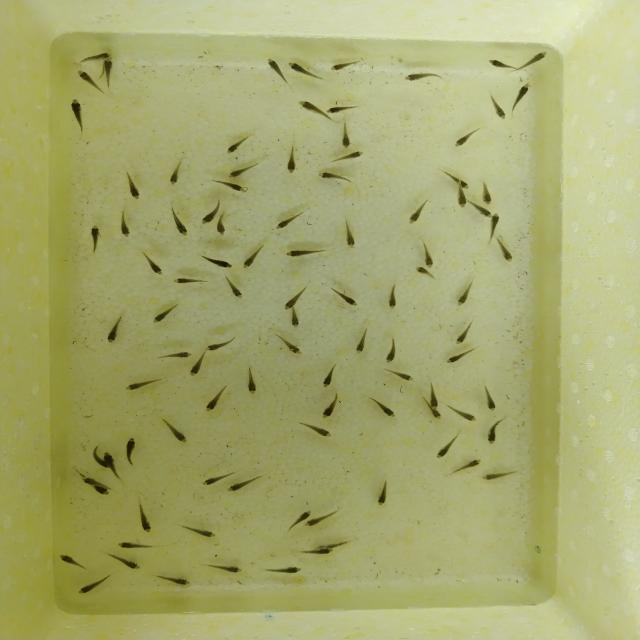fingerling: (516, 50, 556, 72), (68, 94, 88, 136), (160, 416, 188, 444), (368, 396, 398, 421), (192, 470, 230, 489), (276, 333, 304, 358), (436, 432, 461, 460), (72, 580, 110, 598), (243, 242, 269, 268), (406, 197, 430, 225), (512, 80, 534, 110), (280, 290, 306, 315), (105, 554, 141, 572), (262, 54, 286, 80), (302, 421, 333, 441), (334, 290, 362, 312), (230, 476, 264, 494), (322, 392, 344, 419), (449, 458, 482, 476), (202, 392, 226, 416), (56, 553, 88, 571), (167, 271, 203, 287), (154, 303, 180, 325), (301, 100, 329, 120), (180, 526, 220, 540), (275, 212, 303, 232), (399, 70, 442, 83), (451, 128, 476, 150), (445, 169, 470, 191), (122, 170, 140, 200), (171, 207, 190, 235), (105, 318, 124, 346), (142, 251, 164, 275), (332, 150, 365, 166), (87, 227, 103, 260), (105, 451, 123, 480), (496, 238, 516, 264), (226, 136, 252, 156), (288, 60, 316, 78), (218, 178, 246, 196), (489, 95, 507, 122), (372, 479, 390, 506), (74, 68, 96, 90), (196, 208, 216, 232), (140, 504, 156, 534), (230, 163, 258, 180), (481, 386, 498, 414), (120, 380, 154, 394), (454, 284, 472, 310), (468, 200, 494, 218), (224, 278, 245, 300), (156, 574, 194, 586), (322, 363, 340, 388), (486, 416, 502, 444), (117, 211, 133, 239), (317, 172, 349, 186), (167, 162, 184, 188), (455, 324, 473, 348), (456, 408, 480, 426), (478, 177, 494, 204), (80, 50, 116, 62), (245, 364, 259, 394), (202, 258, 237, 270), (386, 280, 400, 310), (183, 360, 209, 376), (484, 56, 510, 72), (486, 214, 502, 240), (488, 468, 522, 480), (420, 244, 437, 268), (391, 368, 416, 384), (214, 217, 232, 239), (326, 61, 354, 75), (341, 121, 355, 149), (447, 350, 475, 364), (356, 329, 372, 353), (163, 348, 195, 360), (285, 249, 323, 259), (385, 338, 399, 364), (345, 222, 357, 252), (124, 440, 136, 470), (286, 144, 298, 174), (112, 540, 148, 550), (206, 340, 235, 352), (258, 566, 300, 574), (457, 183, 469, 210), (417, 266, 437, 282), (202, 566, 240, 574), (287, 314, 305, 330), (298, 548, 332, 556), (306, 518, 328, 530), (324, 106, 354, 114), (426, 410, 446, 422), (429, 387, 439, 411), (102, 58, 115, 74), (294, 510, 316, 519), (80, 474, 96, 486), (95, 486, 111, 498)
